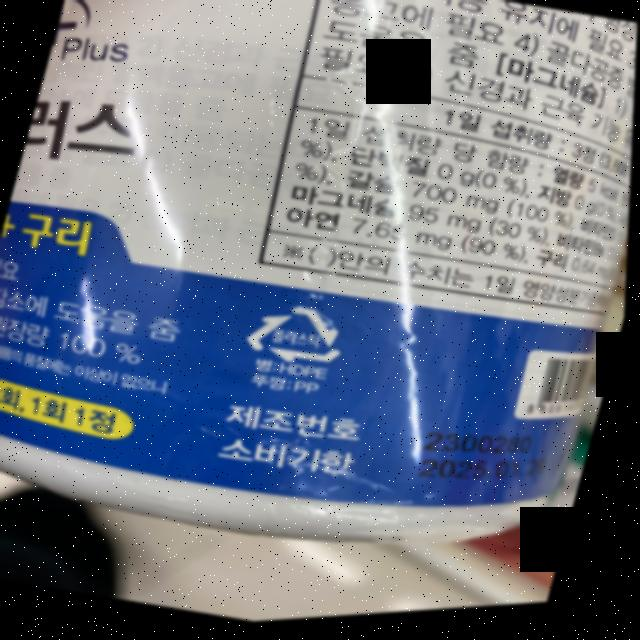Plastic: (238, 291, 363, 382)
